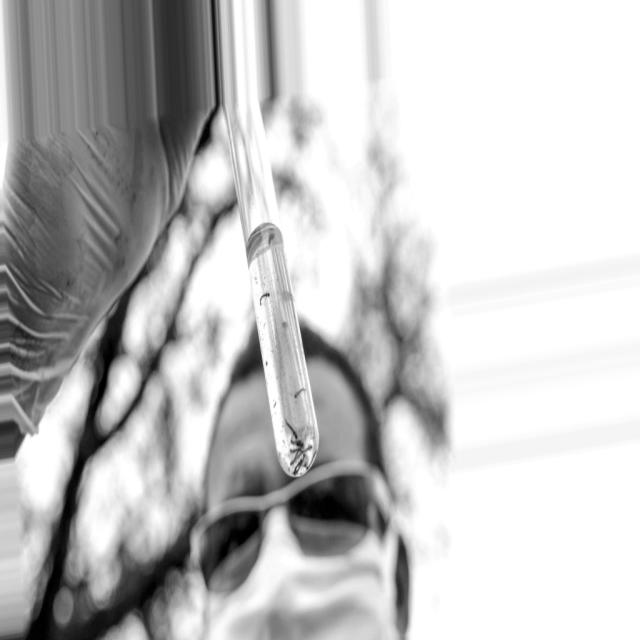larvas: (284, 418, 299, 441), (306, 450, 317, 472), (298, 444, 313, 458), (296, 455, 306, 473), (294, 387, 305, 398), (293, 460, 301, 475), (290, 453, 299, 466), (260, 292, 270, 303), (290, 439, 301, 445), (290, 448, 302, 453), (296, 443, 304, 447)
